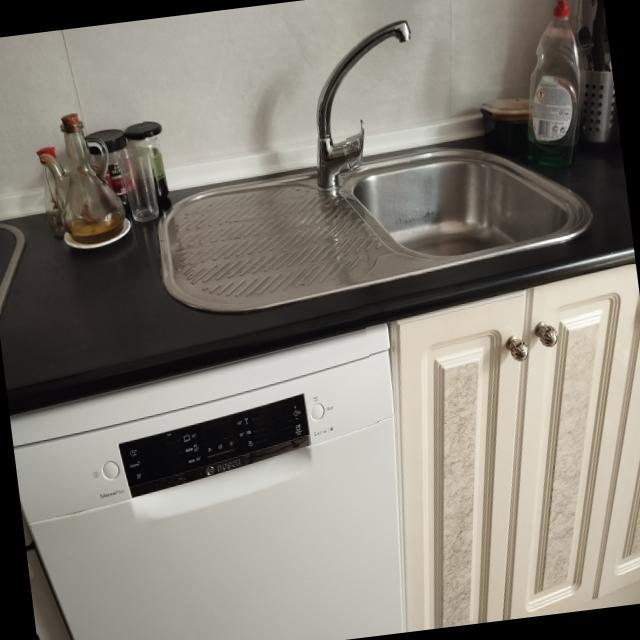cabinet: (388, 264, 640, 631)
countertop: (0, 126, 634, 405)
shower: (158, 21, 594, 314)
sofa: (0, 224, 26, 324)
